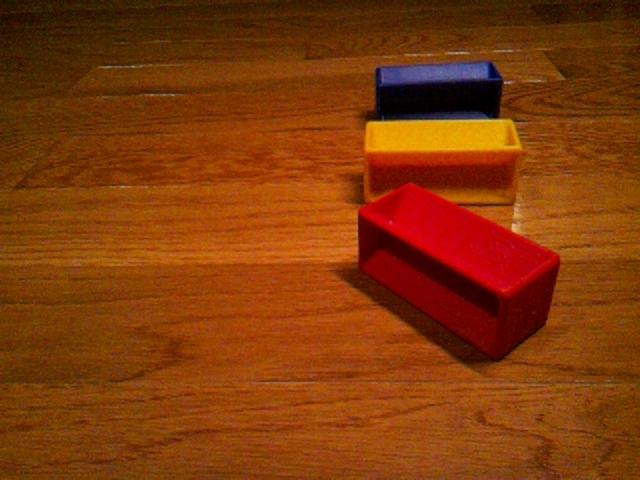blue: (374, 60, 504, 119)
red: (356, 181, 562, 362)
yellow: (363, 117, 523, 206)
